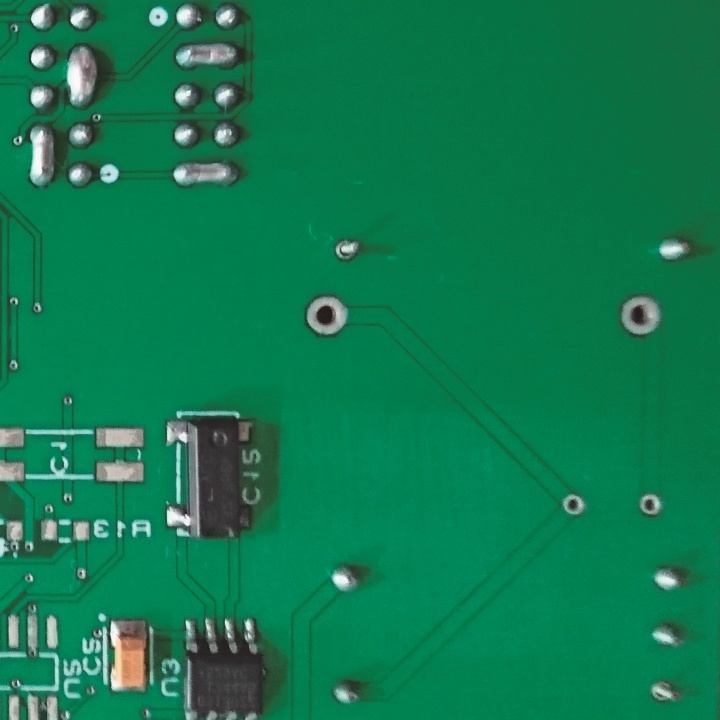F: (302, 293, 357, 340), (618, 292, 662, 342), (330, 233, 365, 263), (647, 678, 678, 709), (636, 491, 661, 518), (560, 492, 584, 516)
P: (63, 40, 99, 111), (171, 41, 242, 74), (171, 159, 239, 193), (25, 123, 56, 191)
